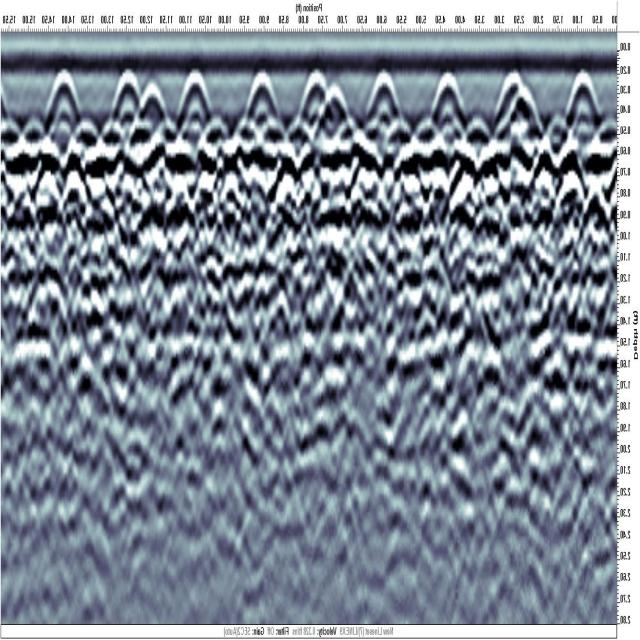hyperbola: (38, 64, 86, 133), (420, 72, 470, 136), (168, 70, 218, 132), (560, 66, 604, 129), (237, 70, 280, 132), (364, 66, 401, 134), (106, 69, 145, 129)
